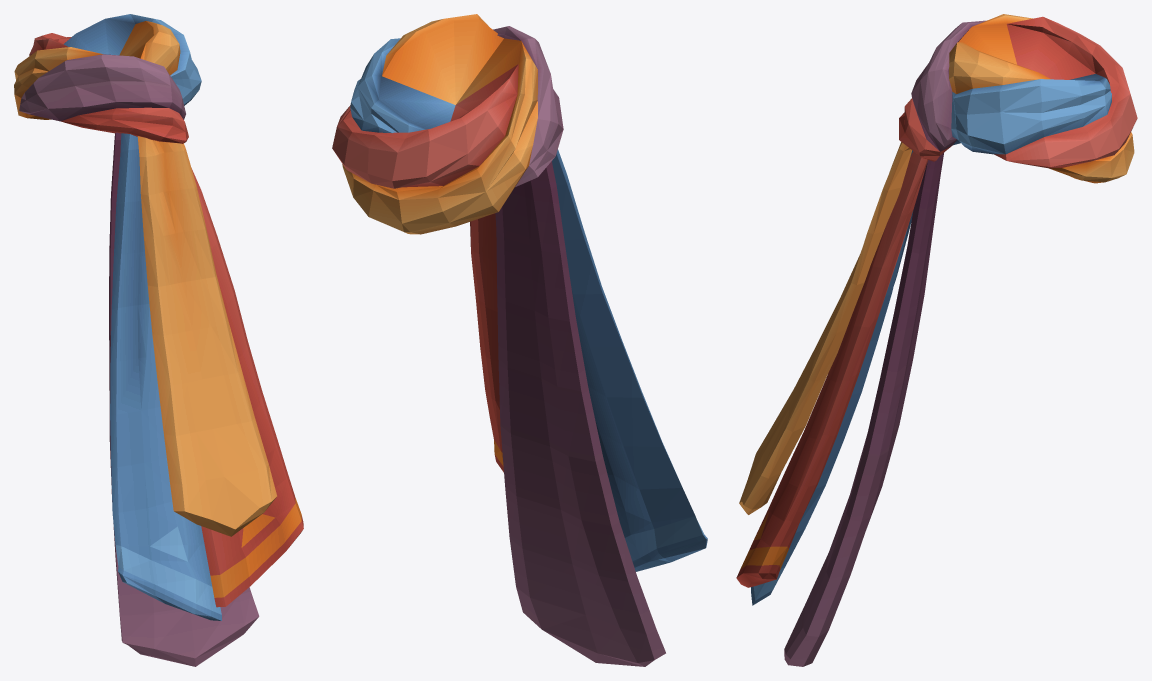
Rendered from CharSkyKid_Wing_AP20MaypoleScarf.glb.
3 renders of one model, left to right at view 1: azimuth 30°, elevation 25°; view 2: azimuth 150°, elevation 25°; view 3: azimuth 270°, elevation 25°, orthographic. The views are drawn at different scales.
Parts seen in each view (by area): view 1: CharSkyKid_Wing_AP20MaypoleScarf; view 2: CharSkyKid_Wing_AP20MaypoleScarf; view 3: CharSkyKid_Wing_AP20MaypoleScarf.
Part boxes in pixels (x1,y1,x2,y2): CharSkyKid_Wing_AP20MaypoleScarf: (14, 14, 303, 666); CharSkyKid_Wing_AP20MaypoleScarf: (332, 14, 707, 666); CharSkyKid_Wing_AP20MaypoleScarf: (736, 14, 1137, 666).
Bounding box in the file's own units: 2.76 × 8.3 × 4.74.
1 material, 1 textured.
